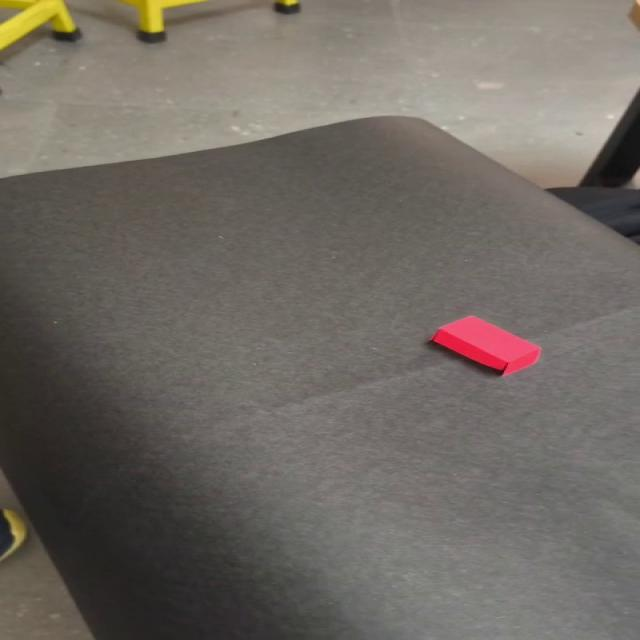red block: (428, 314, 541, 376)
